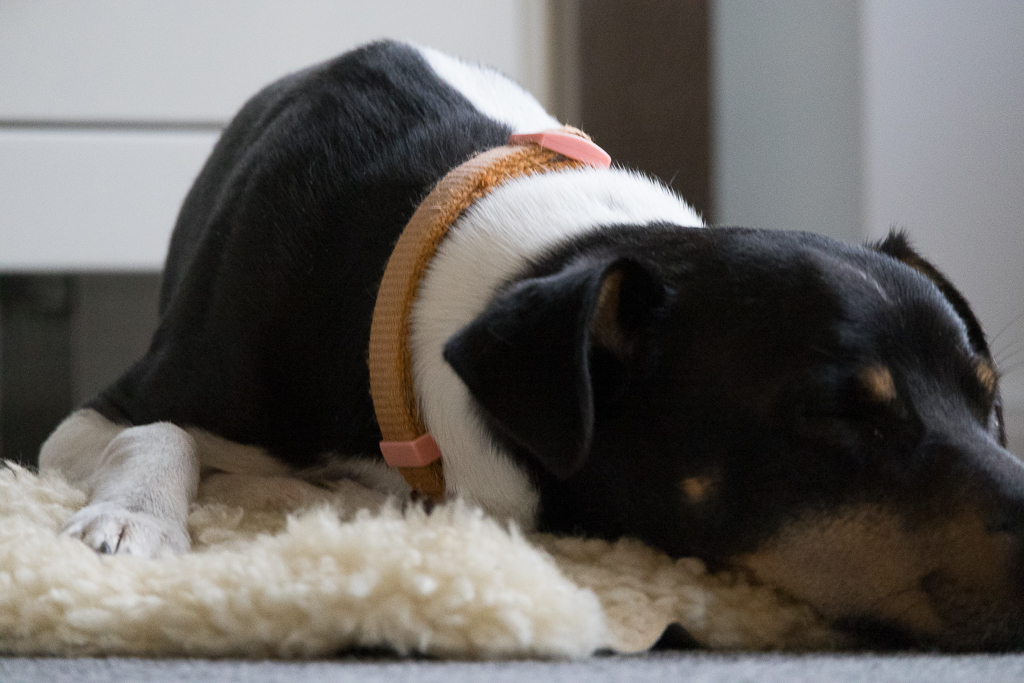Dog: (26, 30, 1024, 663)
